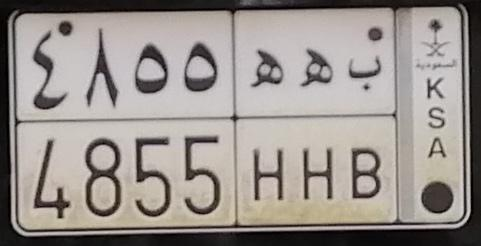4: (31, 29, 73, 220)
5: (183, 39, 222, 217), (134, 41, 173, 217)
8: (85, 25, 124, 217)
B: (347, 54, 384, 200)
H: (251, 49, 288, 202), (301, 49, 336, 200)
